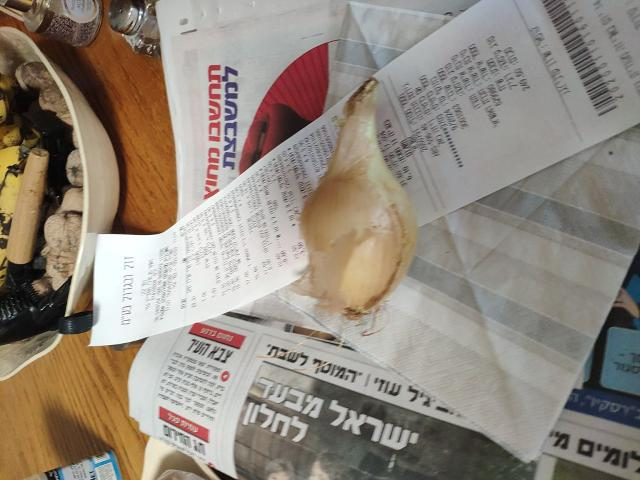onion: (307, 148, 416, 312)
